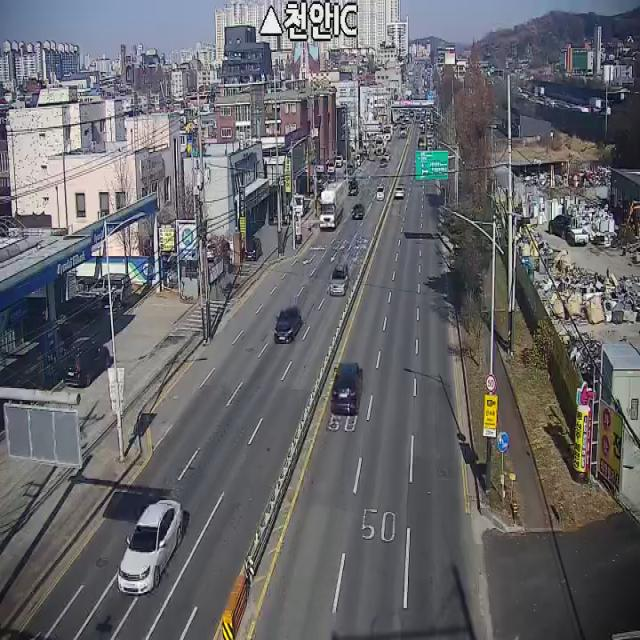Car: (118, 501, 183, 594), (62, 338, 111, 388), (332, 362, 363, 415), (90, 274, 132, 306), (274, 306, 302, 344), (330, 262, 350, 296), (566, 217, 588, 247), (245, 237, 262, 260), (352, 203, 366, 219), (376, 185, 386, 202), (314, 160, 327, 173), (348, 180, 359, 195), (395, 184, 405, 200), (335, 154, 344, 167), (328, 162, 336, 174)
Truck: (320, 182, 344, 228)
